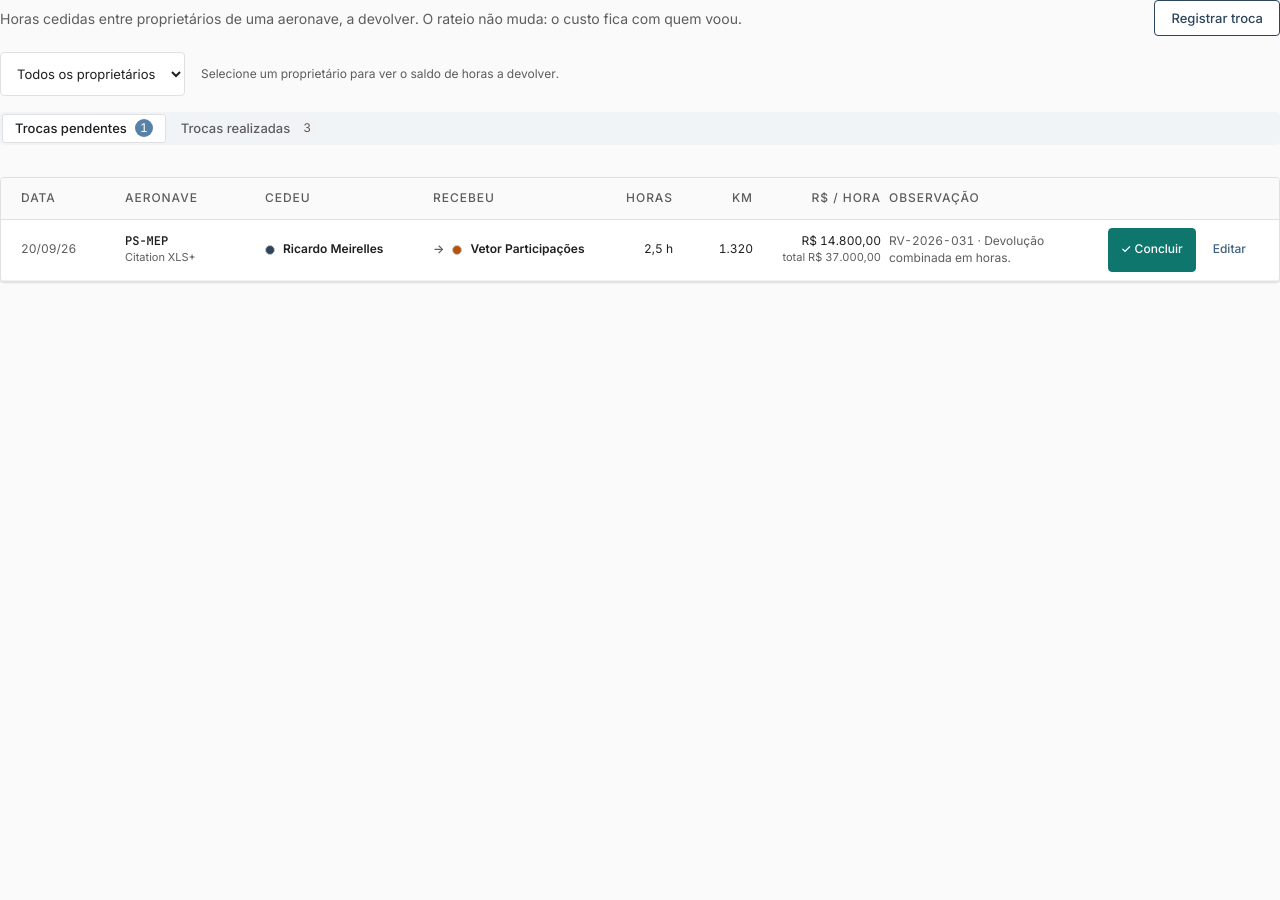
Test: PaginaDeTrocas › concluir pede a data da devolução, envia e anuncia para onde a troca foi
This screenshot has width=1280, height=900.
Click the button with aria-label "Concluir troca de Ricardo Meirelles para Vetor Participações". click: (1152, 250)
box: [1108,228,1196,272]
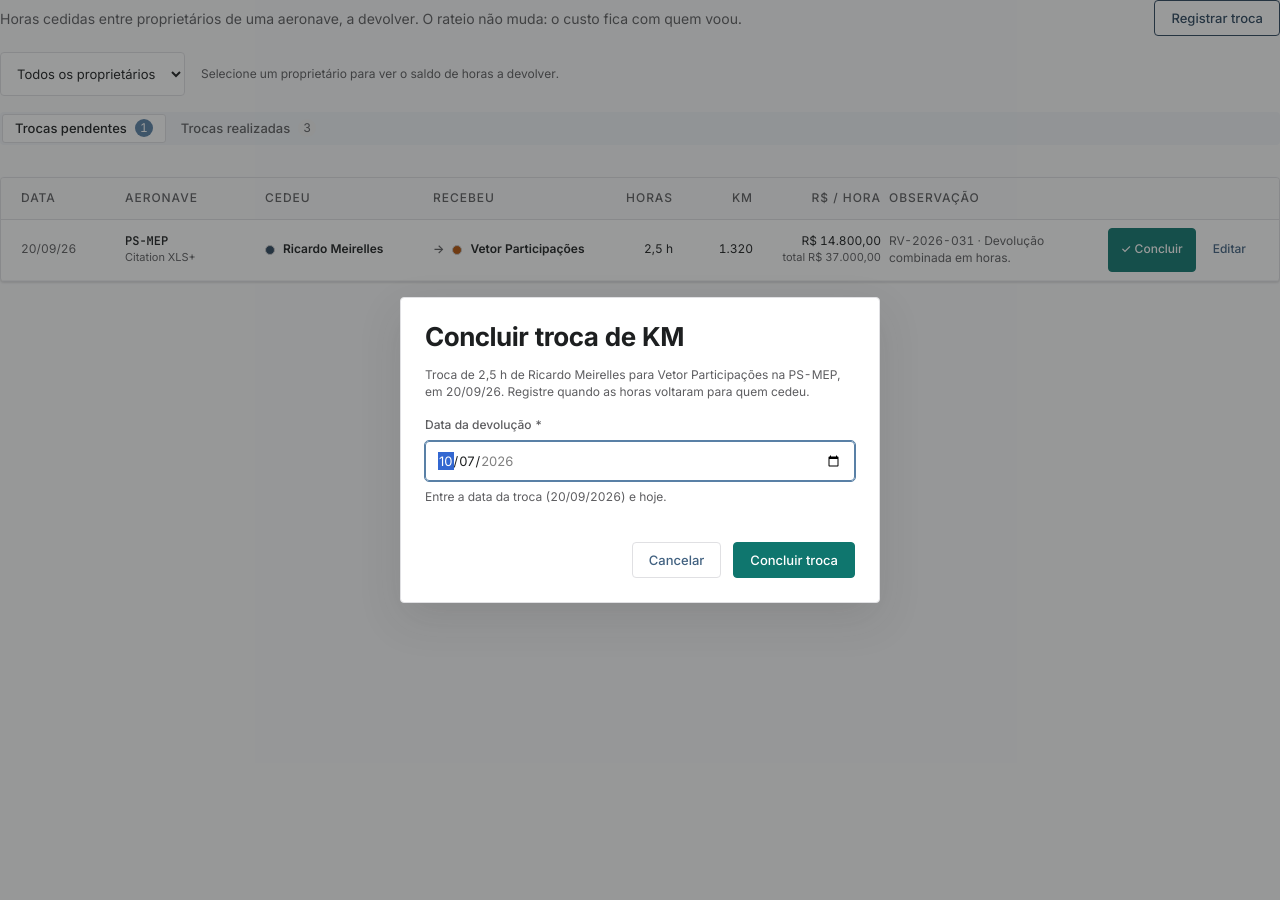
Now the date field labelled "Data da devolução" holds "2026-10-07", box [425,441,855,481]
Click the button "Concluir troca". click: (794, 560)
box: [733,542,855,578]
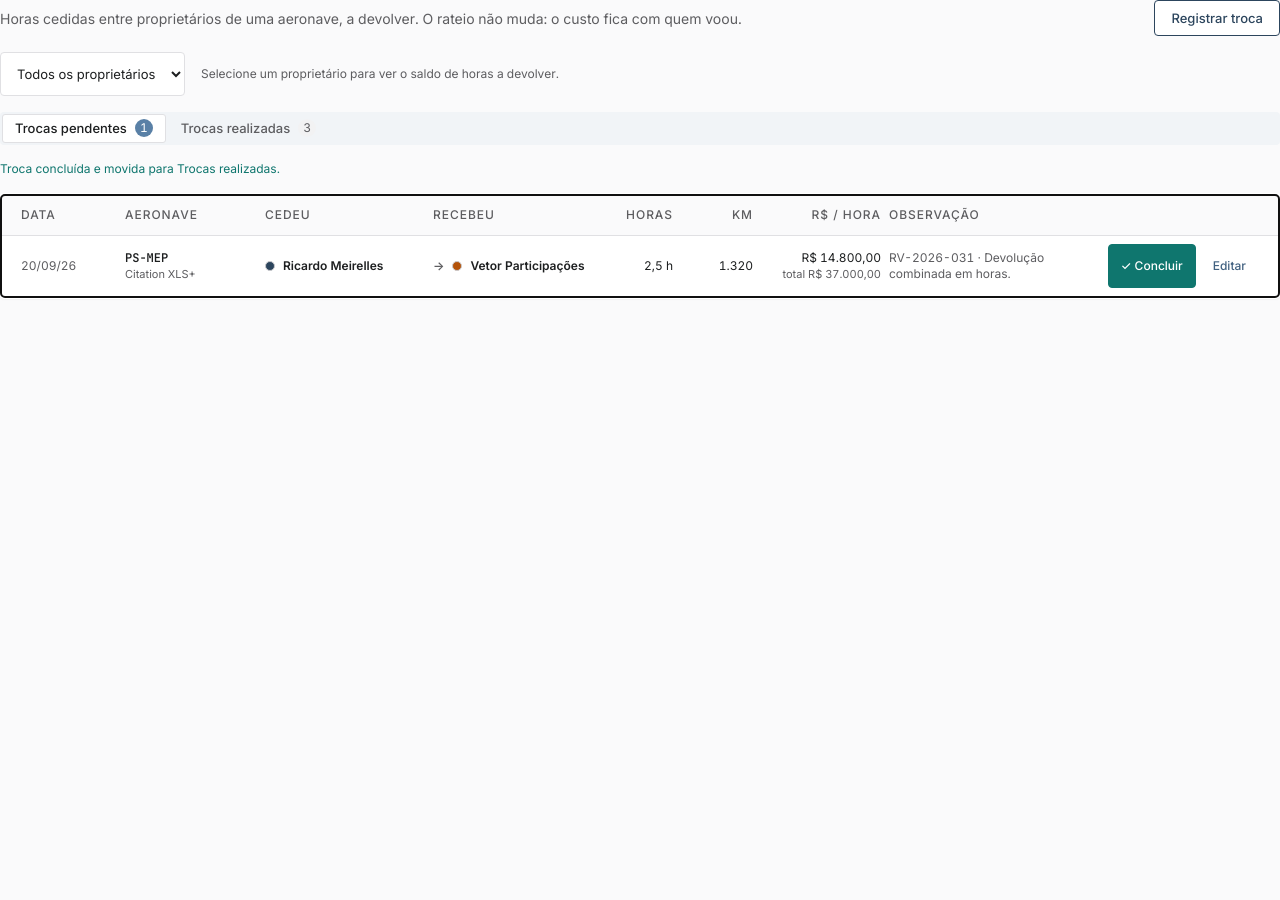
Now the text "Troca concluída e movida para Trocas realizadas." is shown, box [0,161,280,176]
Now the dialog is gone
